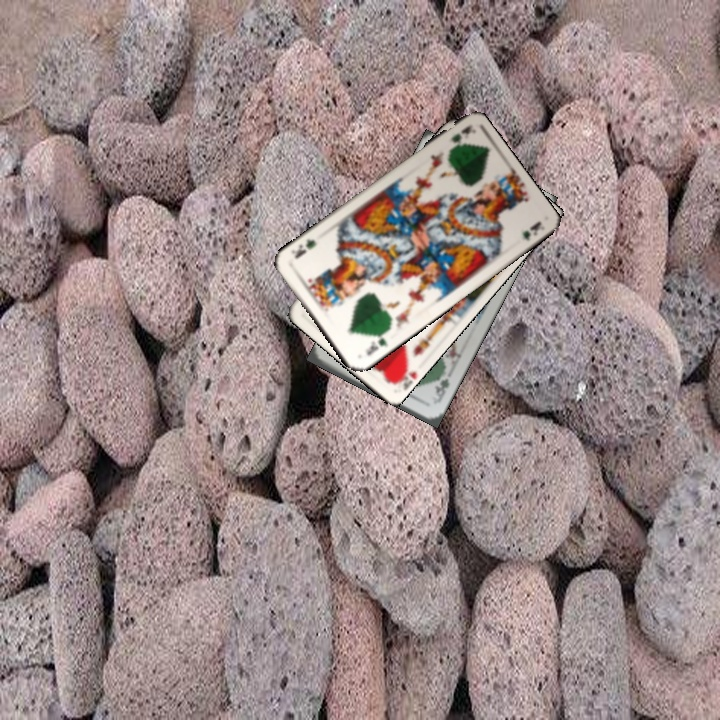GK: (361, 327, 390, 358), (447, 122, 476, 146), (430, 374, 452, 404)
HK: (388, 358, 419, 391)
